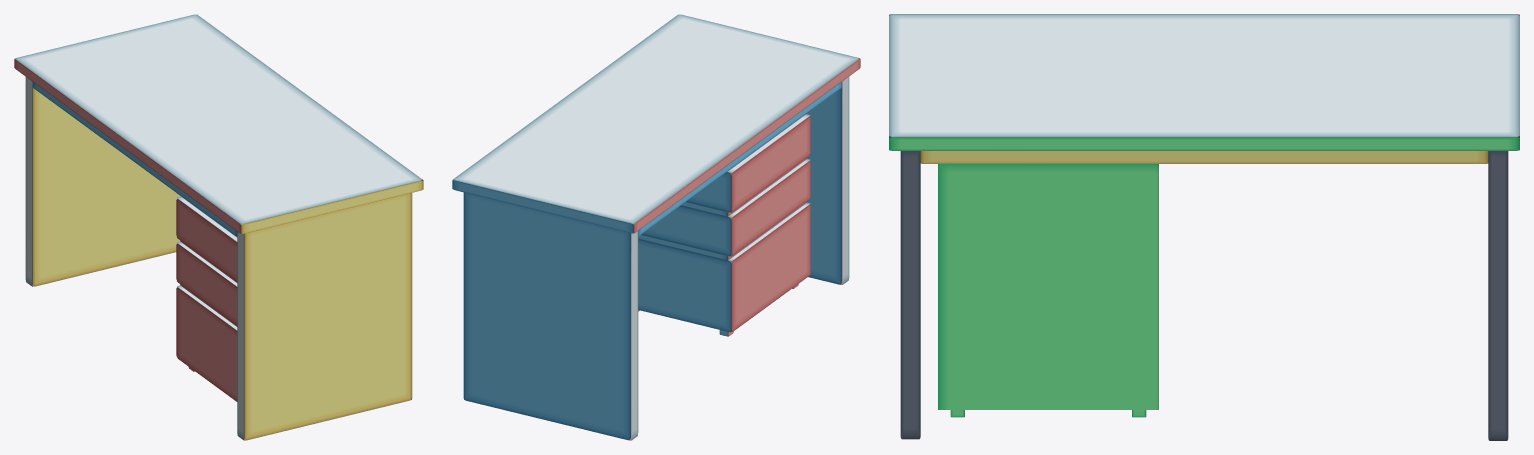
Rendered from desk.fbx.
The picture shows the model from 3 angles, left to right: view 1: azimuth 30°, elevation 25°; view 2: azimuth 150°, elevation 25°; view 3: azimuth 270°, elevation 25°; orthographic projection. The views are drawn at different scales.
Parts seen in each view (by area): view 1: Frame, Filing Cabinet; view 2: Frame, Filing Cabinet; view 3: Frame, Filing Cabinet.
Part boxes in pixels (x1,y1,x2,y2): Frame: (14, 14, 423, 440); Filing Cabinet: (176, 196, 237, 401); Frame: (452, 14, 860, 440); Filing Cabinet: (638, 110, 810, 336); Frame: (889, 14, 1519, 440); Filing Cabinet: (938, 164, 1158, 417).
Bounding box in the file's own units: 27.5 × 32.03 × 59.38.
Materials: 1 (1 with a texture image).
